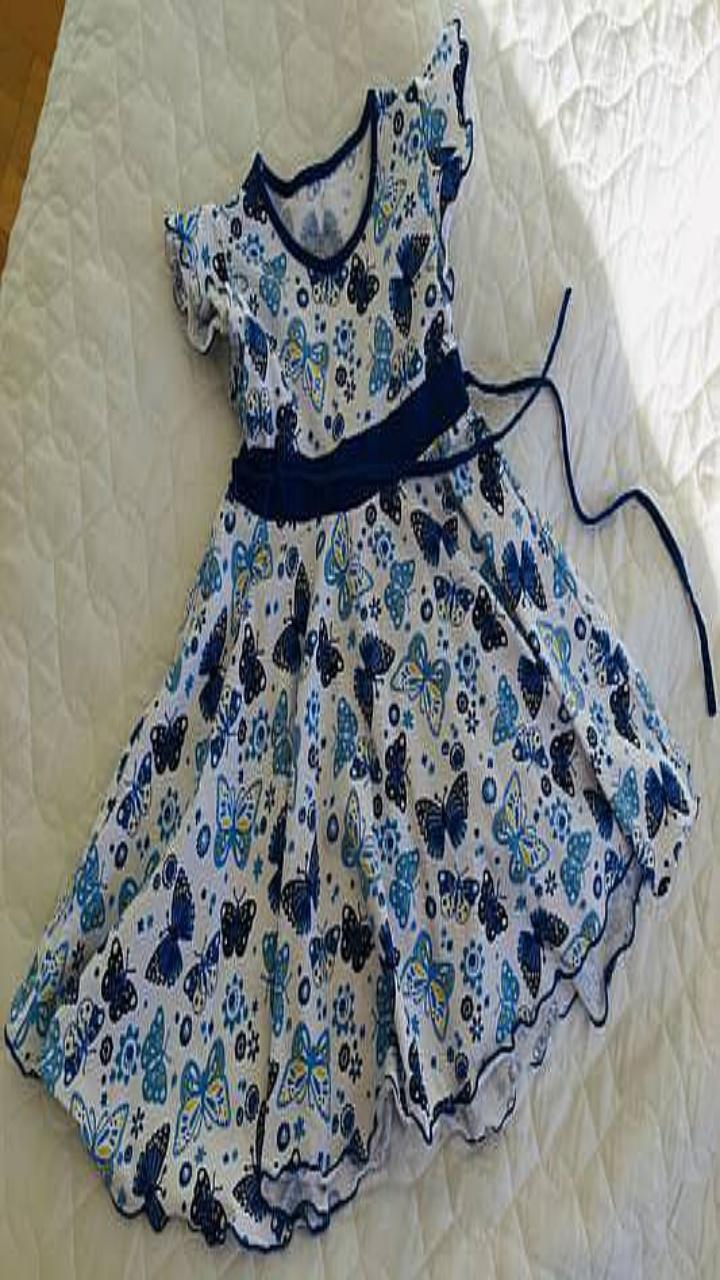Dresses: (6, 19, 696, 1248)
